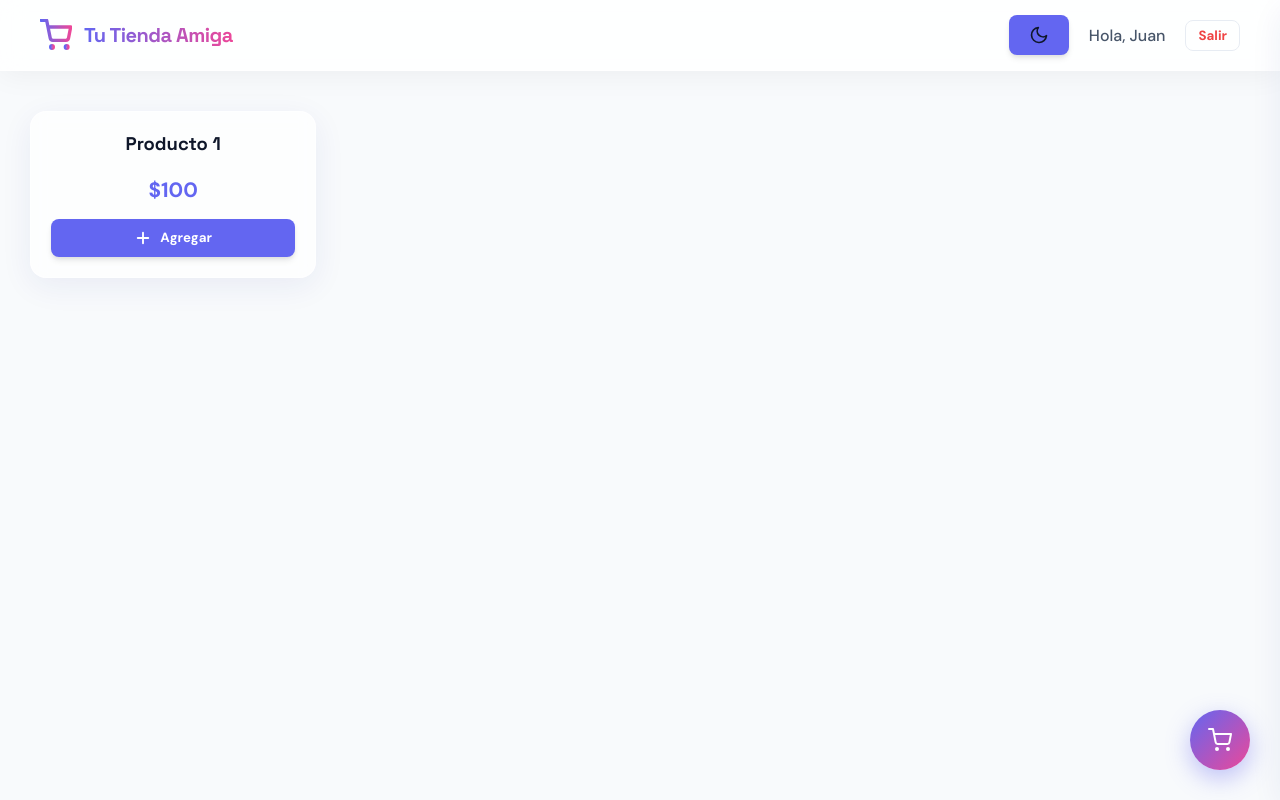
Test: App Component - Gestión del Carrito › Gestión del Carrito › ✓ HAPPY PATH: agregar producto al carrito vacío
expect the heading "Producto 1" is shown: met, box [126,132,221,155]
Click the button "Agregar": (173, 238) [51,219,295,257]
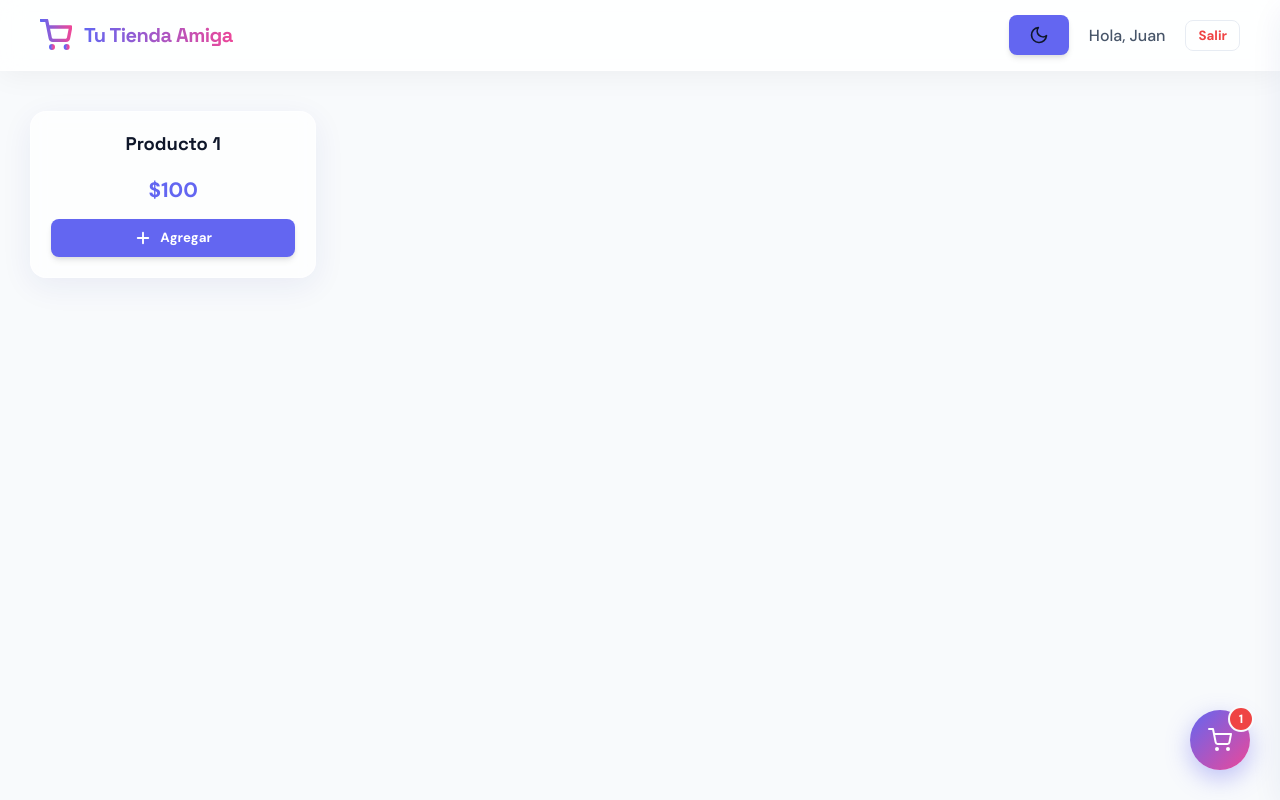
expect the text with class "cart-badge" reads "1": met, box [1239,711,1243,727]
